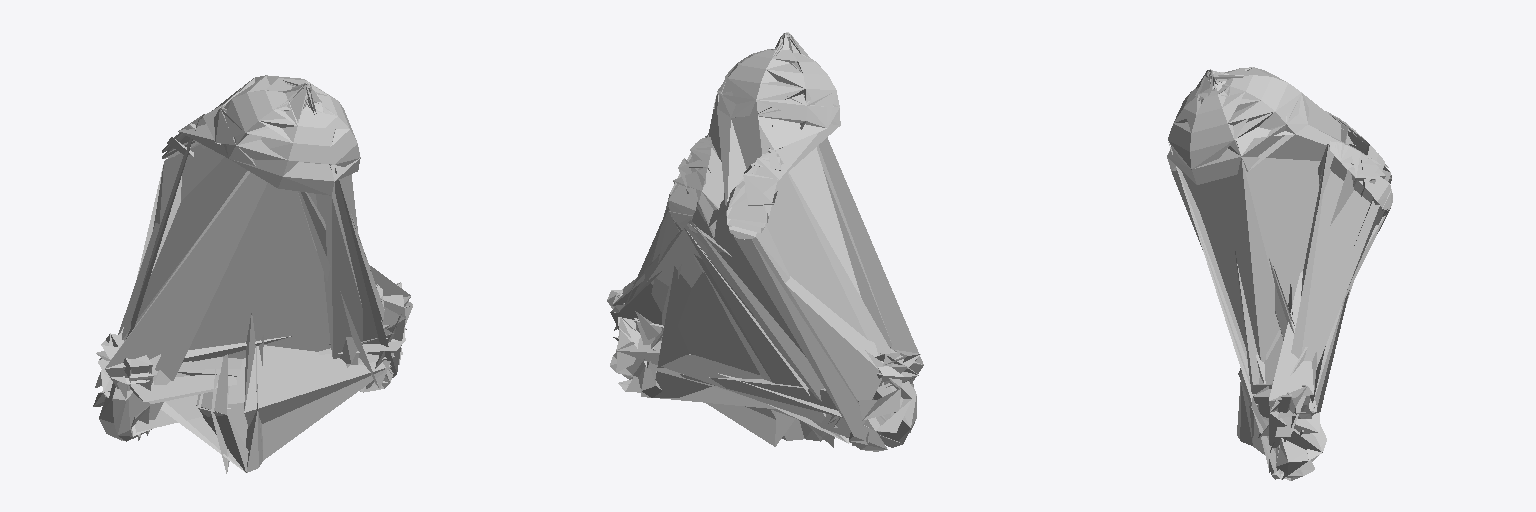
File: Pac-Man Jr.obj
The picture shows the model from 3 angles: view 1: azimuth 30°, elevation 25°; view 2: azimuth 150°, elevation 25°; view 3: azimuth 270°, elevation 25°; orthographic projection.
Parts seen in each view (by area): view 1: obj72, obj51, obj61, obj50, obj145, obj60; view 2: obj72, obj61, obj145, obj50, obj60, obj74, obj151, obj51; view 3: obj72, obj61, obj50, obj145, obj60, obj51.
Boxes of the visible parts, <box> form: obj72: <box>93,76,412,473</box>; obj51: <box>221,75,334,195</box>; obj61: <box>217,78,360,187</box>; obj50: <box>233,76,348,176</box>; obj145: <box>220,75,356,164</box>; obj60: <box>217,80,353,186</box>; obj72: <box>607,34,923,451</box>; obj61: <box>718,32,824,127</box>; obj145: <box>714,55,834,107</box>; obj50: <box>718,47,821,126</box>; obj60: <box>718,33,836,127</box>; obj74: <box>717,49,831,120</box>; obj151: <box>728,62,838,128</box>; obj51: <box>713,49,839,114</box>; obj72: <box>1167,68,1392,480</box>; obj61: <box>1167,69,1307,170</box>; obj50: <box>1174,72,1306,184</box>; obj145: <box>1185,75,1301,151</box>; obj60: <box>1168,70,1308,168</box>; obj51: <box>1171,68,1305,183</box>.
Size of the model in its own units: 6.12 by 7.38 by 3.9.